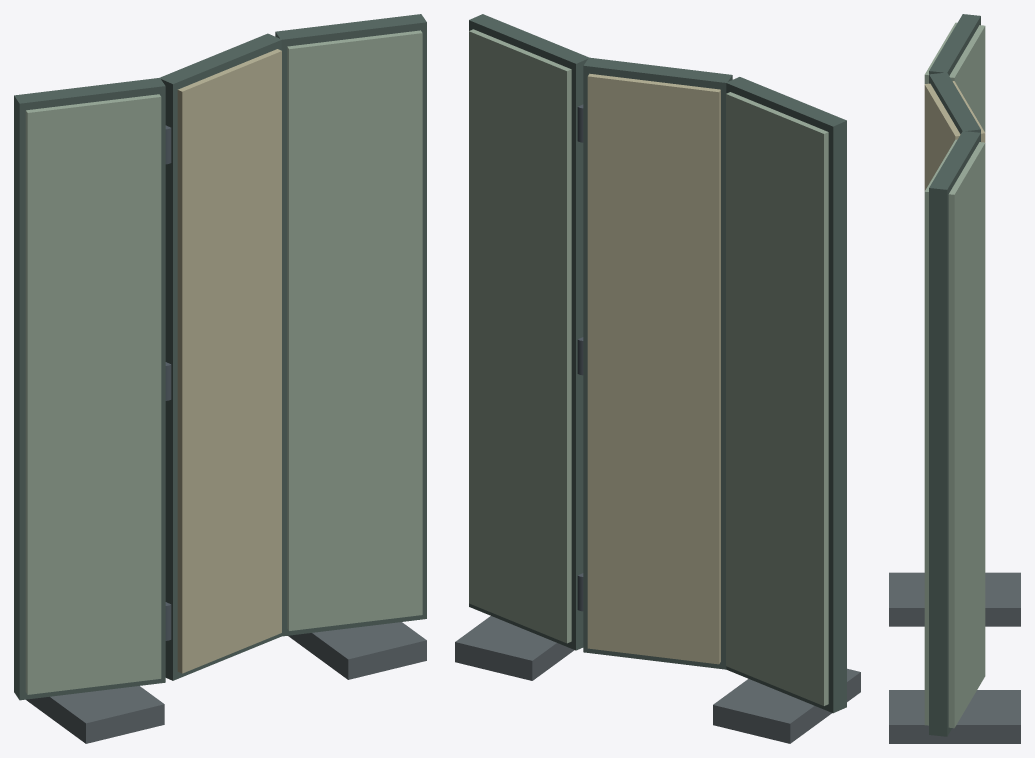
3 views of the same model, side by side, from view 1: azimuth 30°, elevation 25°; view 2: azimuth 150°, elevation 25°; view 3: azimuth 270°, elevation 25° (orthographic). The views are drawn at different scales.
Visible parts, largest first — view 1: leaf-cloth-1-front, leaf-cloth-3-front, leaf-cloth-2-front, folding-leaf-1, folding-leaf-2, folding-leaf-3, steel-foot-left, steel-foot-right; view 2: leaf-cloth-2-rear, leaf-cloth-1-rear, leaf-cloth-3-rear, folding-leaf-1, folding-leaf-3, folding-leaf-2, steel-foot-left, steel-foot-right; view 3: leaf-cloth-3-rear, folding-leaf-3, steel-foot-right, steel-foot-left, leaf-cloth-3-front, leaf-cloth-1-rear, leaf-cloth-2-front, folding-leaf-2, folding-leaf-1.
Boxes of the visible parts, x1,y1,x2,y2 form: leaf-cloth-1-front: (25,94,161,694); leaf-cloth-3-front: (287,30,422,630); leaf-cloth-2-front: (177,49,281,673); folding-leaf-1: (14,78,165,700); folding-leaf-2: (160,33,281,680); folding-leaf-3: (275,14,426,636); steel-foot-left: (26,686,164,743); steel-foot-right: (288,622,426,679); leaf-cloth-2-rear: (587,73,720,664); leaf-cloth-1-rear: (726,92,828,705); leaf-cloth-3-rear: (469,29,571,643); folding-leaf-1: (726,77,846,713); folding-leaf-3: (469,14,588,650); folding-leaf-2: (583,57,732,669); steel-foot-left: (713,668,860,743); steel-foot-right: (455,616,574,680); leaf-cloth-3-rear: (948,142,985,728); folding-leaf-3: (929,131,980,736); steel-foot-right: (889,690,1020,743); steel-foot-left: (889,572,1020,626); leaf-cloth-3-front: (924,139,957,725); leaf-cloth-1-rear: (949,25,985,132); leaf-cloth-2-front: (924,83,960,190); folding-leaf-2: (929,72,980,134); folding-leaf-1: (929,14,980,75).
Size of the model in its own units: 1.2 by 1.8 by 0.38.
